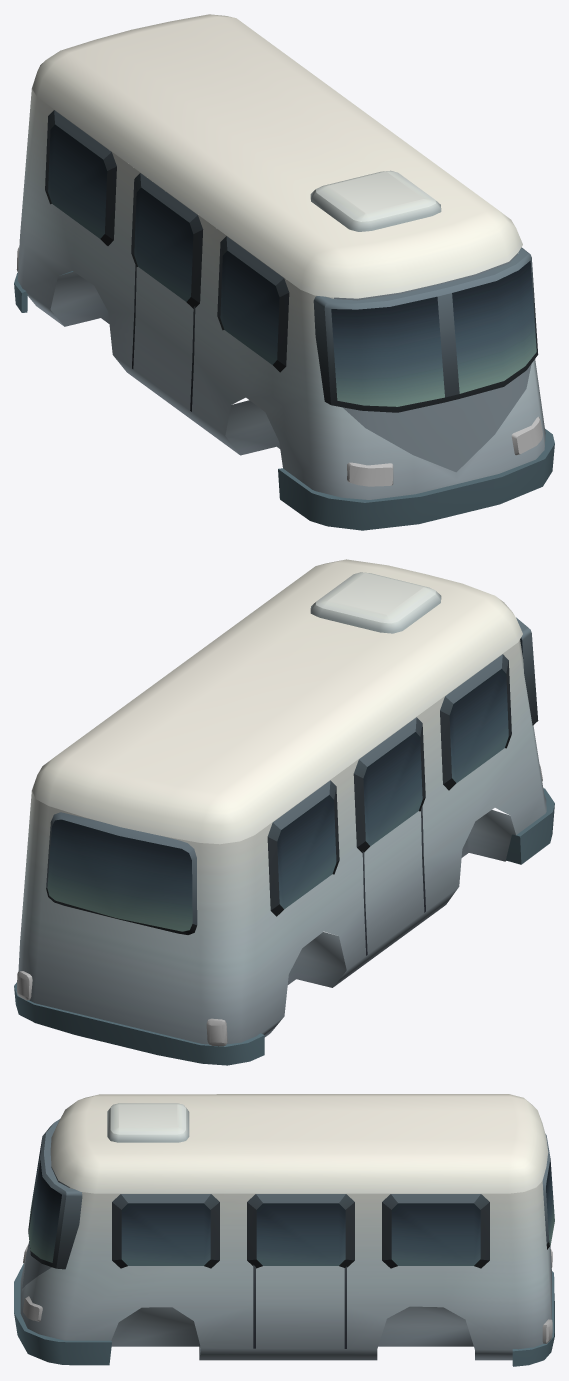
The model's file is 1_Van_SixSeaterTest.fbx.
3 renders of one model, top to bottom at view 1: azimuth 30°, elevation 25°; view 2: azimuth 150°, elevation 25°; view 3: azimuth 270°, elevation 25°, orthographic. The views are drawn at different scales.
Visible parts, largest first — view 1: Van_roof__Removable__color, Van_body_color, kinh_b_1, kinh_b_2; view 2: Van_body_color, Van_roof__Removable__color, kinh_b_2, kinh_b_3, kinh_b_1; view 3: Van_body_color, Van_roof__Removable__color, kinh_b_2, kinh_b_1, kinh_b_3.
Boxes of the visible parts, left/top/right/bottom form: Van_roof__Removable__color: left=32, top=14, right=522, bottom=298; Van_body_color: left=14, top=89, right=554, bottom=530; kinh_b_1: left=313, top=247, right=538, bottom=412; kinh_b_2: left=45, top=110, right=289, bottom=372; Van_body_color: left=14, top=640, right=554, bottom=1065; Van_roof__Removable__color: left=32, top=559, right=522, bottom=844; kinh_b_2: left=267, top=654, right=511, bottom=916; kinh_b_3: left=46, top=812, right=197, bottom=934; kinh_b_1: left=516, top=617, right=538, bottom=725; Van_body_color: left=14, top=1166, right=554, bottom=1366; Van_roof__Removable__color: left=50, top=1094, right=548, bottom=1193; kinh_b_2: left=112, top=1194, right=489, bottom=1268; kinh_b_1: left=28, top=1119, right=82, bottom=1269; kinh_b_3: left=542, top=1134, right=554, bottom=1249.
Bounding box in the file's own units: 132 × 137 × 326.
Materials: 2 (1 with a texture image).
